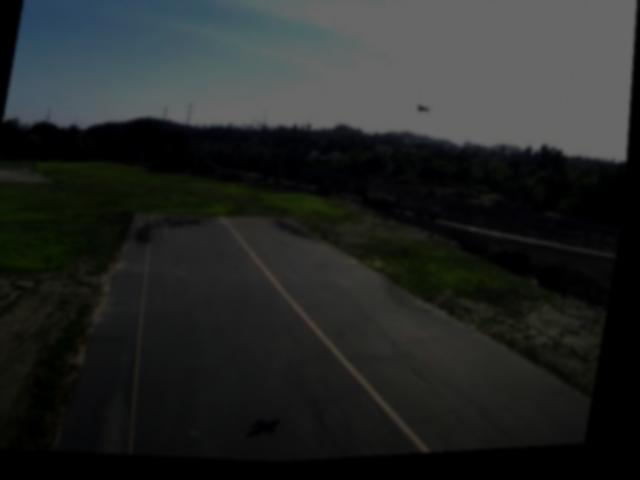iha: (420, 110, 431, 118)
